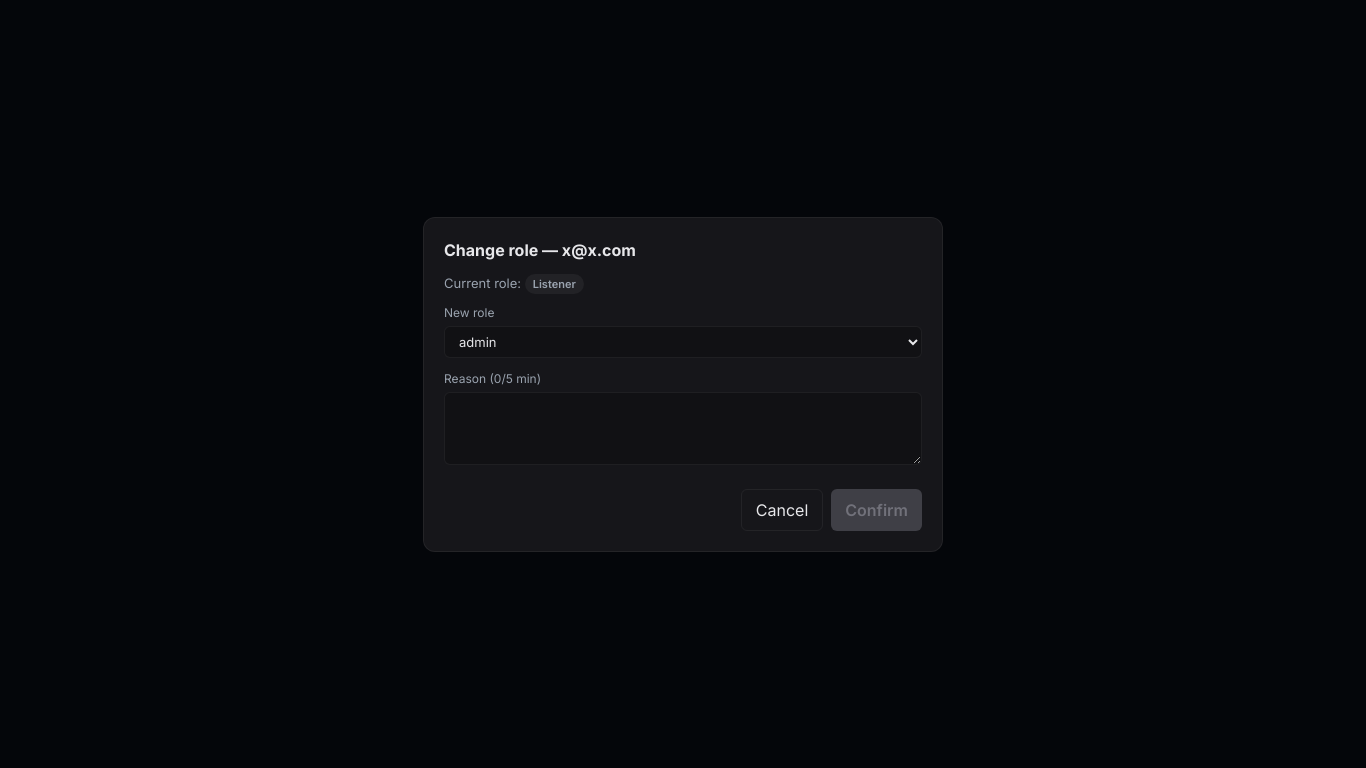
it: Phase 19a Part 5 — ChangeRoleModal safety rails › valid role + reason >=5 chars enables Confirm
Check: the button with test id "confirm-role" is disabled, box [831,488,922,530]
In the text box with test id "reason-textarea": (683, 428) [444,392,922,464], type "promote"
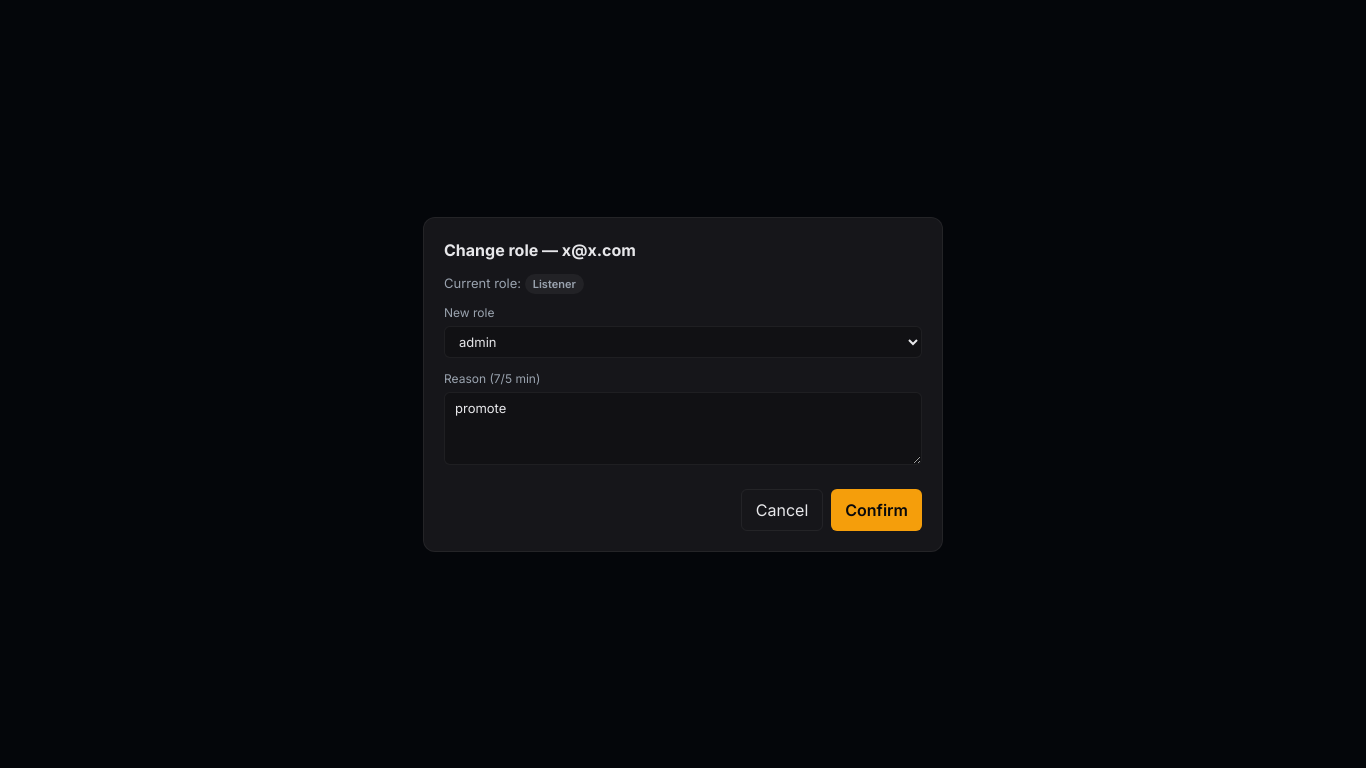
Check: the button with test id "confirm-role" is enabled, box [831,488,922,530]
